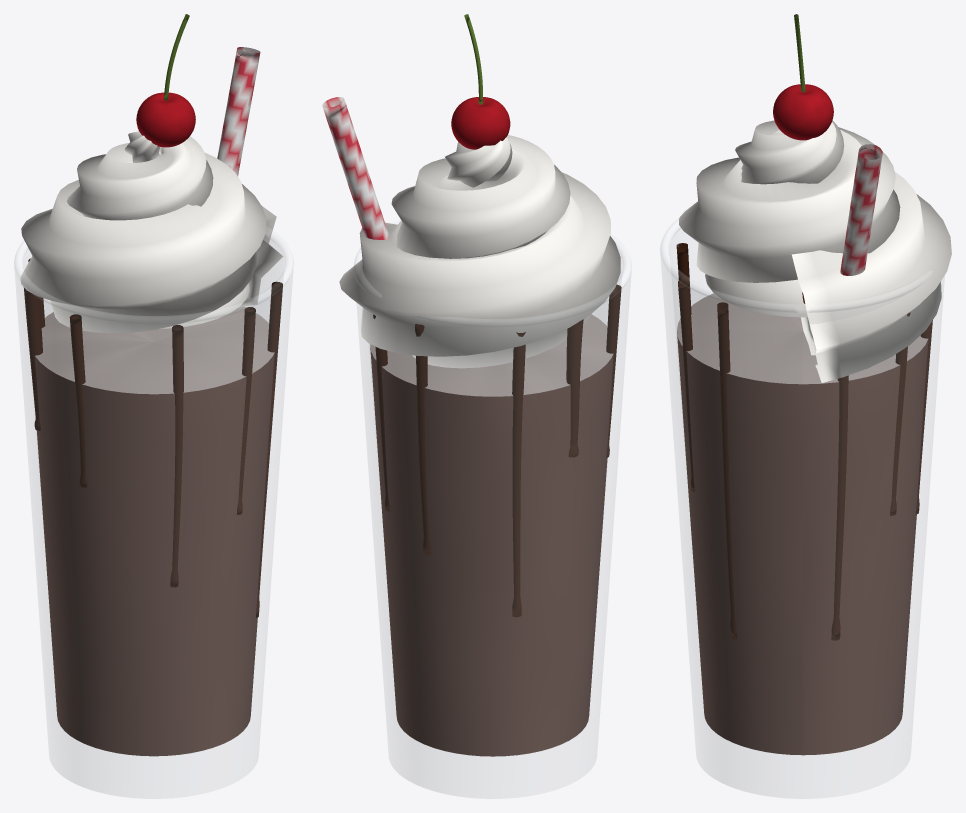
The model's file is milkshake-500.glb.
3 renders of one model, left to right at view 1: azimuth 30°, elevation 25°; view 2: azimuth 150°, elevation 25°; view 3: azimuth 270°, elevation 25°, orthographic. The views are drawn at different scales.
Parts seen in each view (by area): view 1: copo, liquido_0_chocolate, chantilly, calda_copo, cereja, canudo; view 2: copo, liquido_0_chocolate, chantilly, calda_copo, canudo, cereja; view 3: copo, liquido_0_chocolate, chantilly, calda_copo, canudo, cereja.
Boxes of the visible parts, <box> form: copo: <box>14,227,293,798</box>; liquido_0_chocolate: <box>34,306,274,756</box>; chantilly: <box>20,130,283,333</box>; calda_copo: <box>23,258,282,617</box>; cereja: <box>136,14,195,147</box>; canudo: <box>217,47,260,176</box>; copo: <box>354,221,631,798</box>; liquido_0_chocolate: <box>370,314,613,756</box>; chantilly: <box>339,135,620,368</box>; calda_copo: <box>373,284,621,617</box>; canudo: <box>322,97,389,239</box>; cereja: <box>451,14,510,149</box>; copo: <box>660,219,944,798</box>; liquido_0_chocolate: <box>677,293,928,755</box>; chantilly: <box>679,120,951,382</box>; calda_copo: <box>676,243,932,640</box>; canudo: <box>840,144,882,275</box>; cereja: <box>773,14,833,140</box>.
Size of the model in its own units: 0.0854 by 0.232 by 0.0814.
